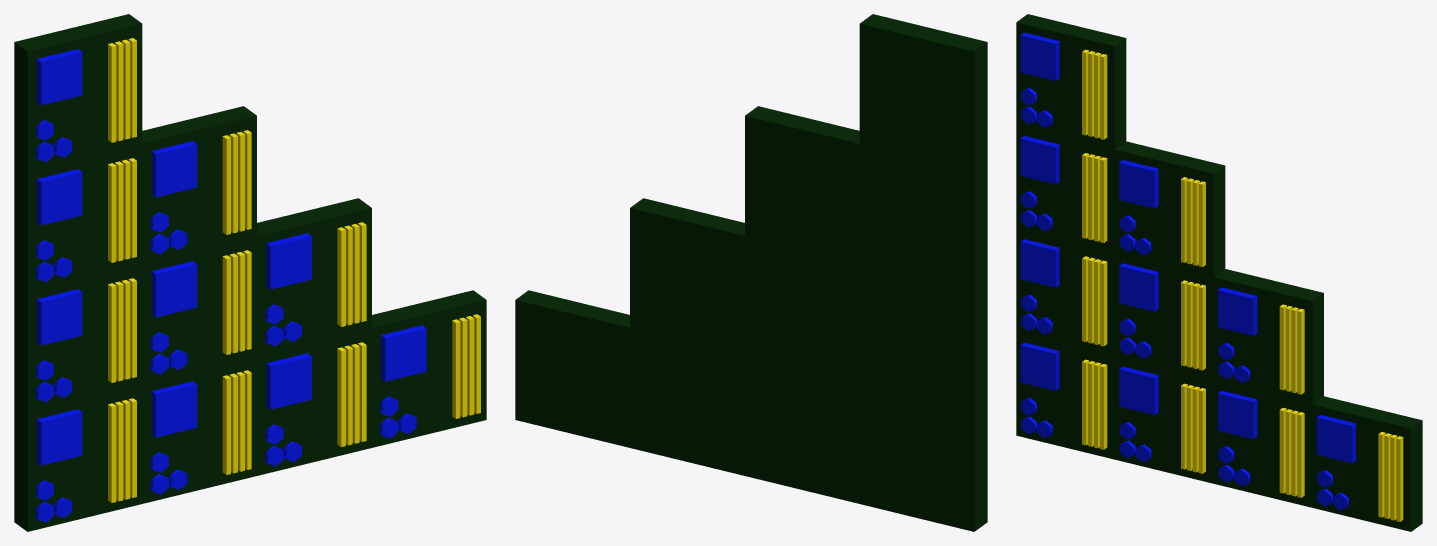
File: Large_Collectible.FBX
3 views of the same model, side by side, from view 1: azimuth 30°, elevation 25°; view 2: azimuth 150°, elevation 25°; view 3: azimuth 330°, elevation 25° (orthographic). The views are drawn at different scales.
Parts seen in each view (by area): view 1: Large_Collectible; view 2: Large_Collectible; view 3: Large_Collectible.
Part boxes in pixels (bbox=[...]): Large_Collectible: bbox=[14, 14, 486, 531]; Large_Collectible: bbox=[515, 14, 987, 531]; Large_Collectible: bbox=[1016, 14, 1422, 531].
Size of the model in its own units: 200 by 200 by 13.29.
